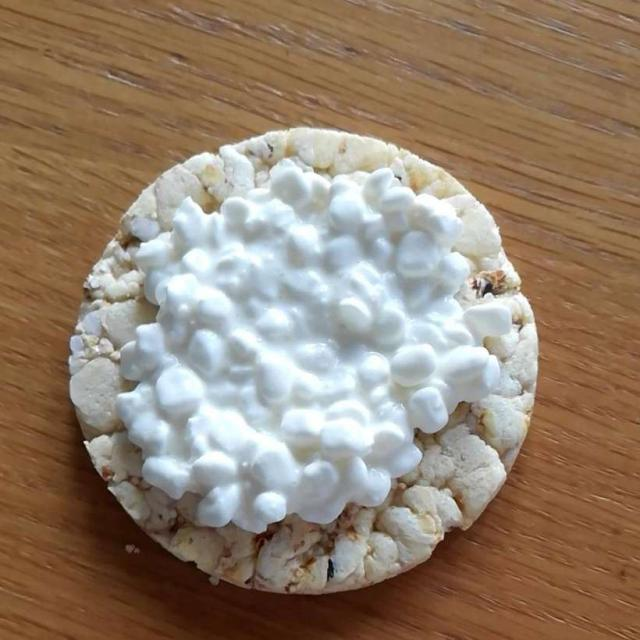cheese: (121, 178, 489, 526)
rice: (78, 133, 531, 572)
